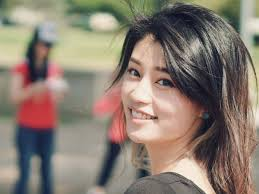bare: (119, 88, 179, 147)
